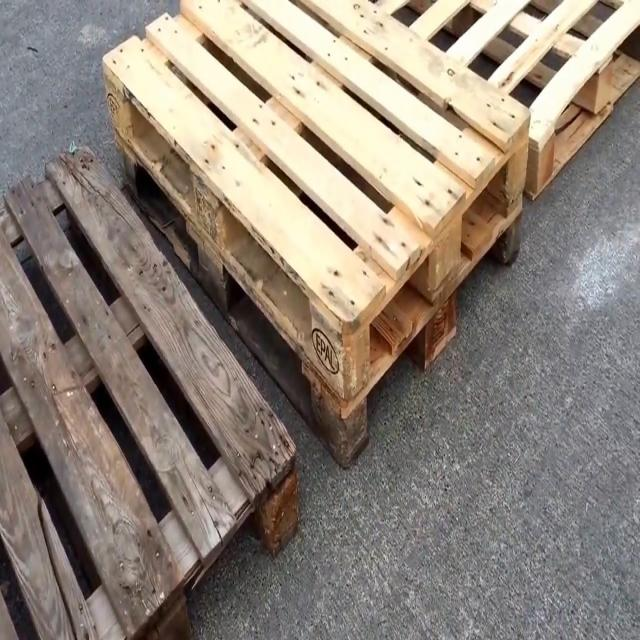Palette: (84, 0, 534, 489), (0, 133, 313, 640), (369, 0, 640, 198)
